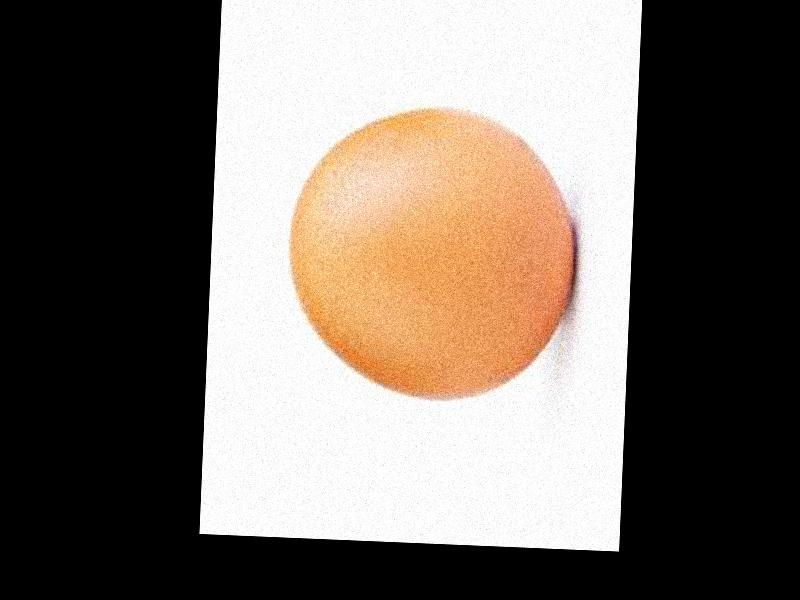Eggs: (287, 103, 578, 403)
